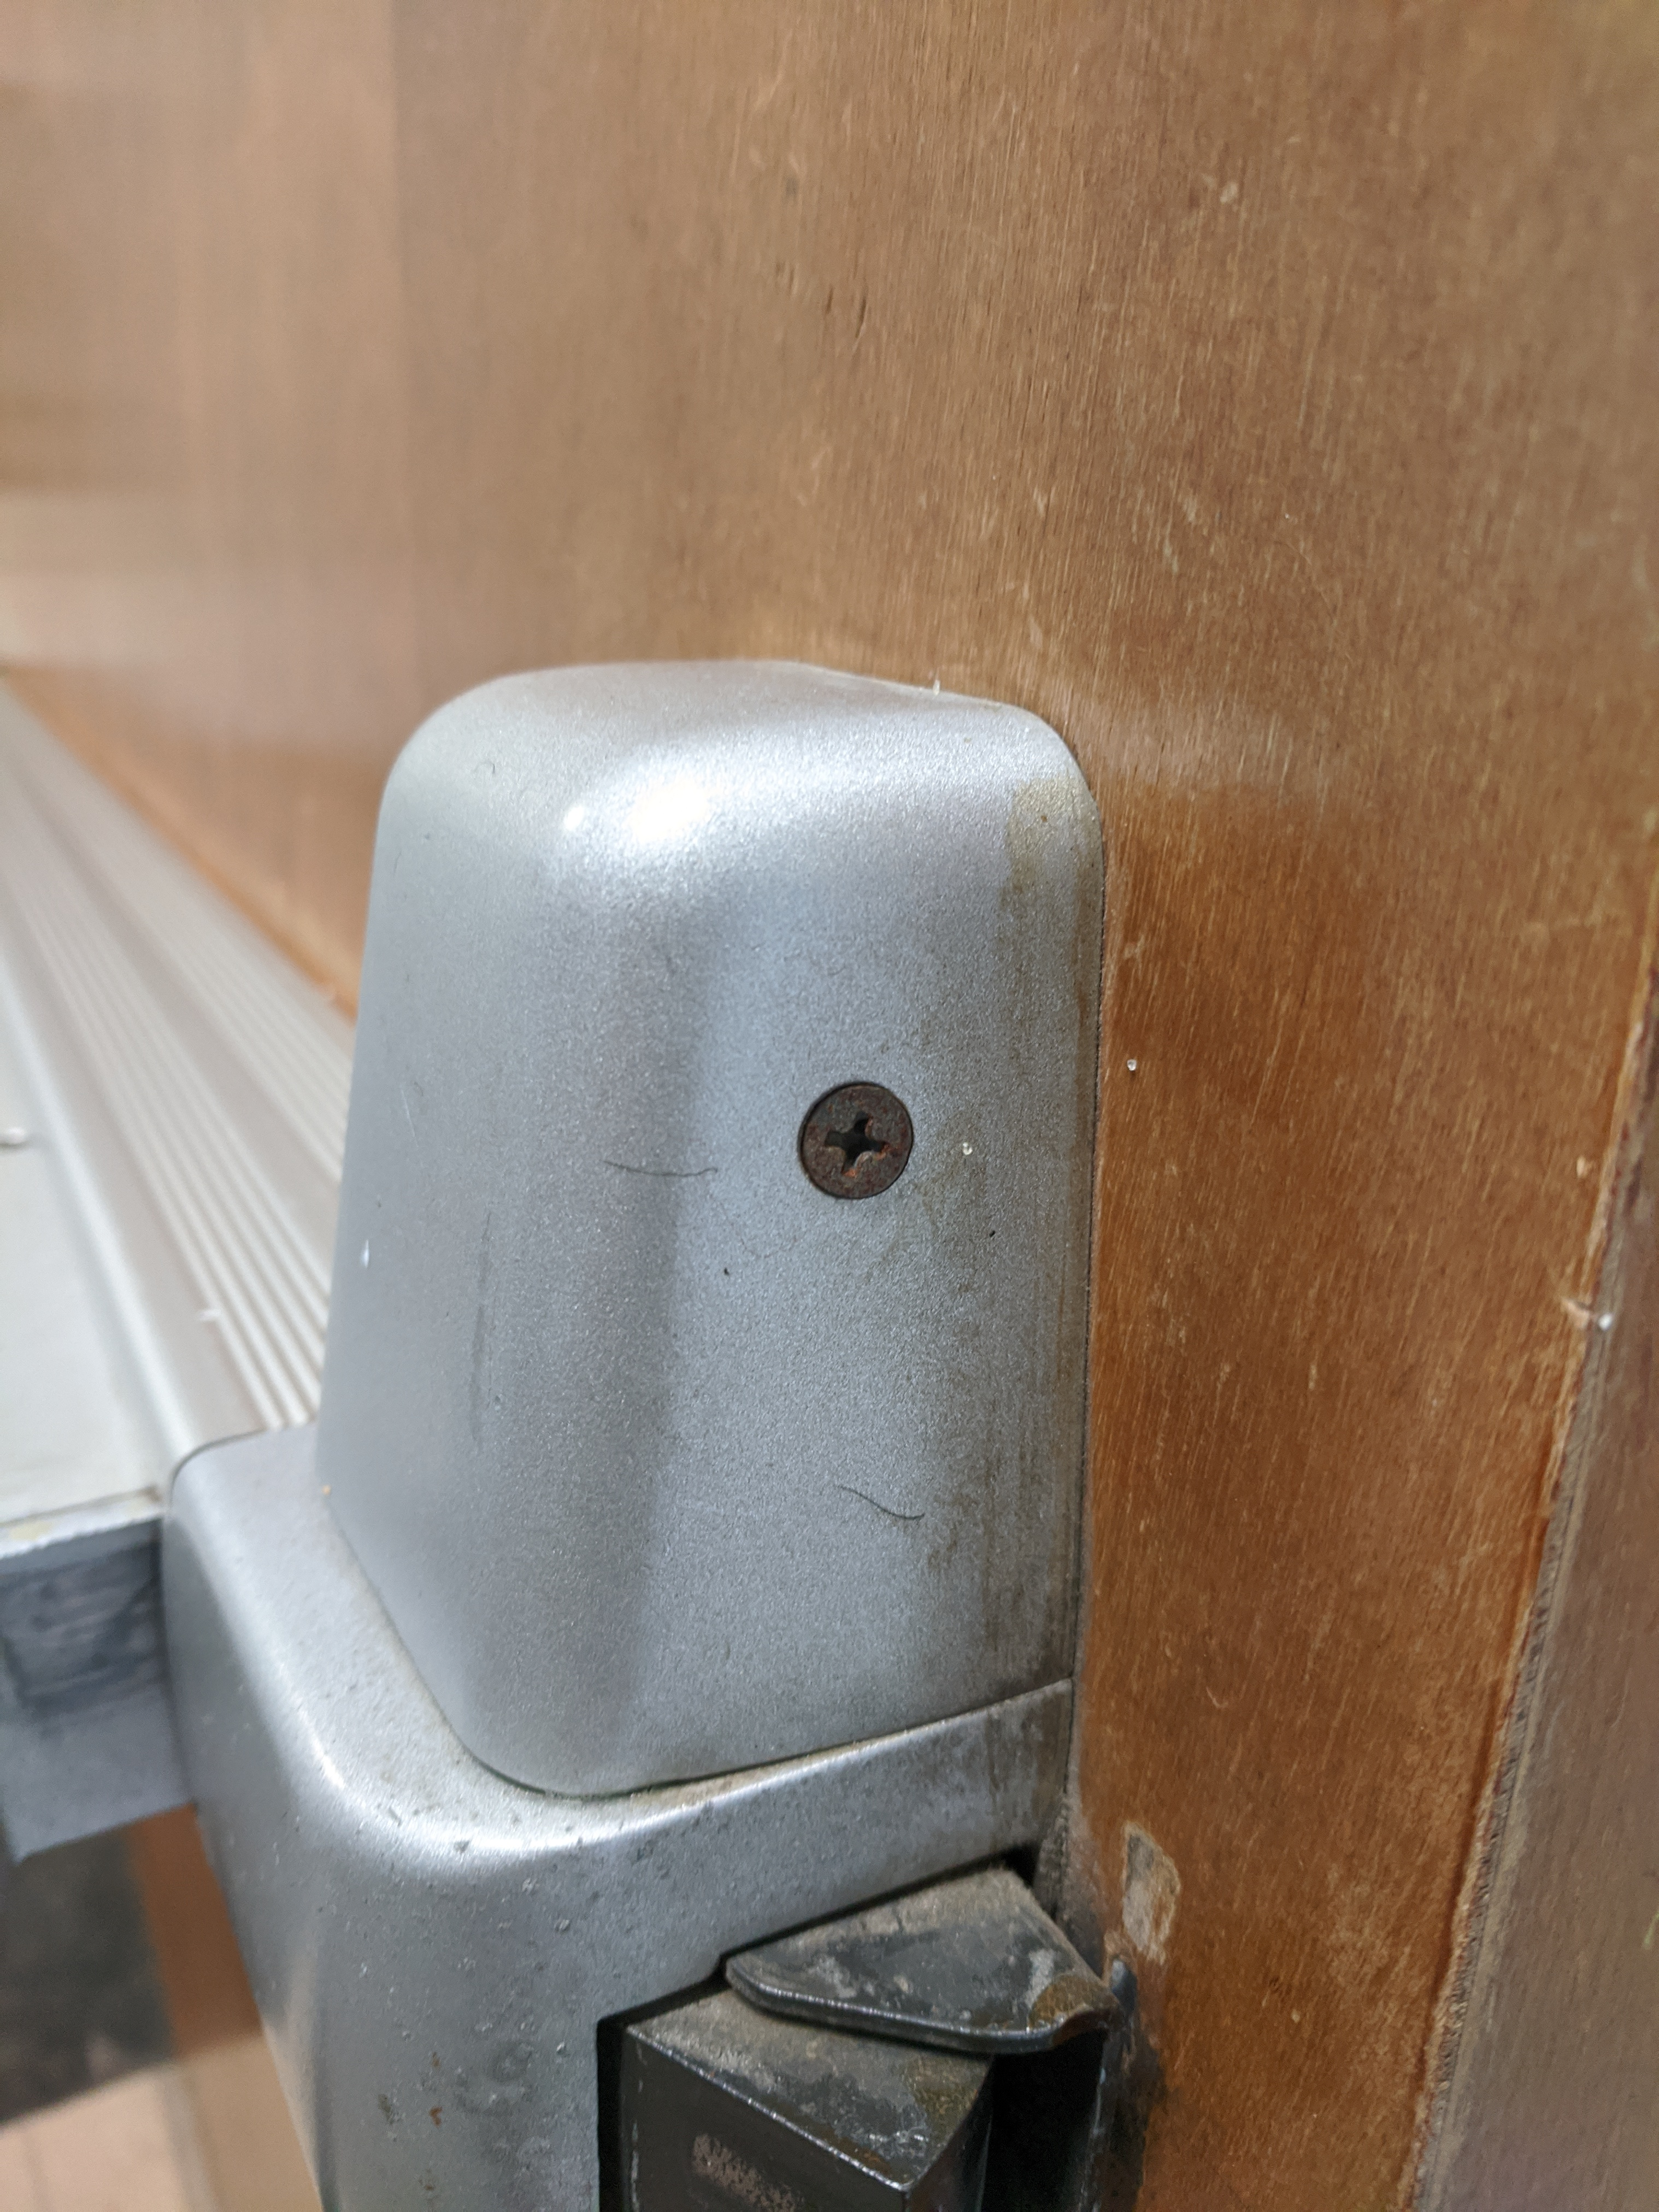cross_recessed_screw: (789, 1059, 929, 1214)
